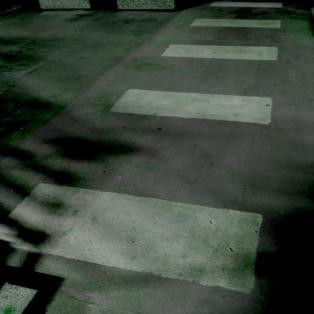Paso de Cebra: (96, 40, 288, 132)
